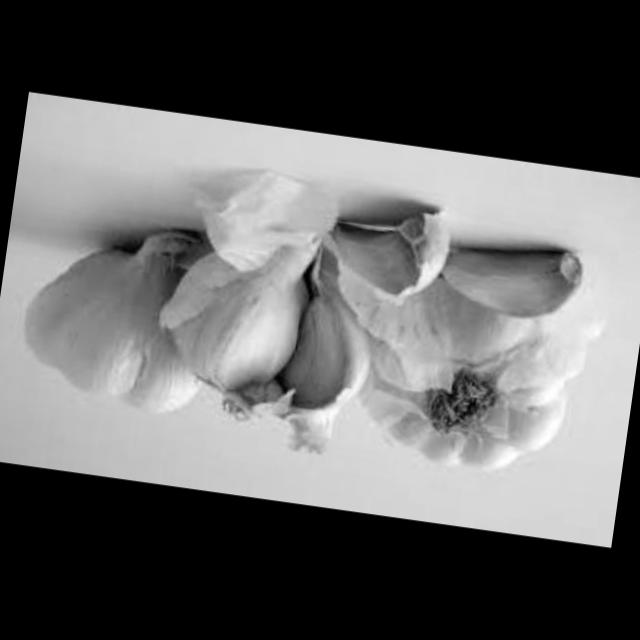garlic: (6, 203, 238, 426), (344, 285, 582, 482), (152, 186, 330, 412), (259, 270, 382, 456), (436, 228, 612, 342), (320, 195, 452, 308)
